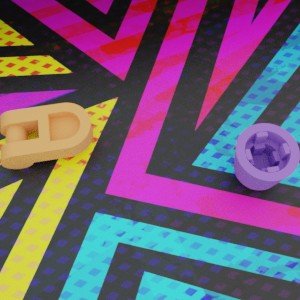lego: (0, 102, 93, 169), (233, 123, 300, 190)
